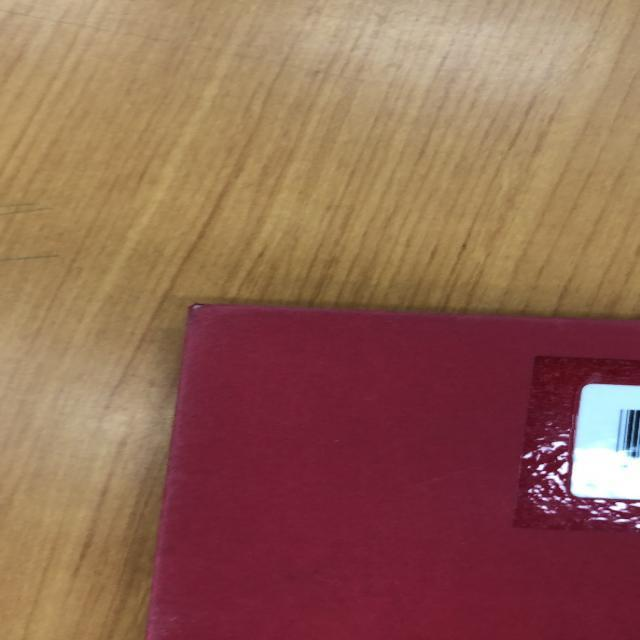Wornout: (183, 297, 251, 321)
